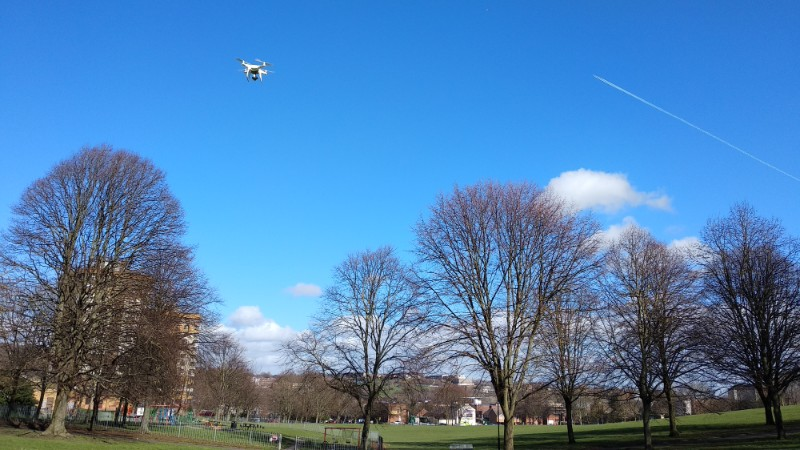drone: (237, 58, 277, 83)
